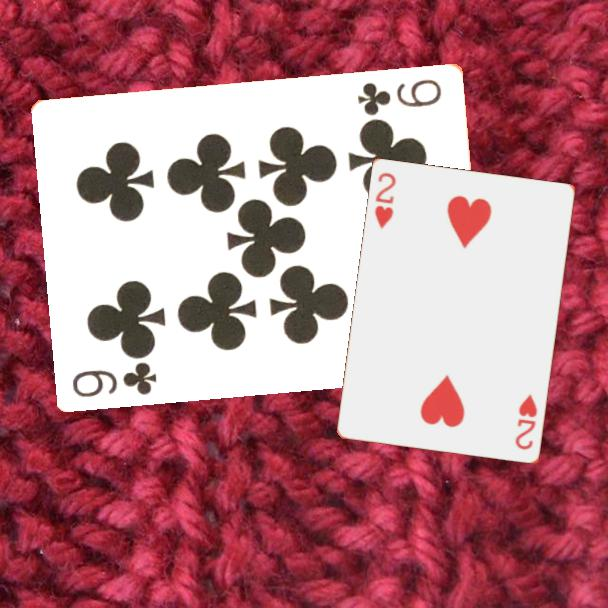c09: (354, 75, 445, 117), (69, 358, 160, 400)
h02: (371, 169, 399, 232), (512, 391, 540, 453)
